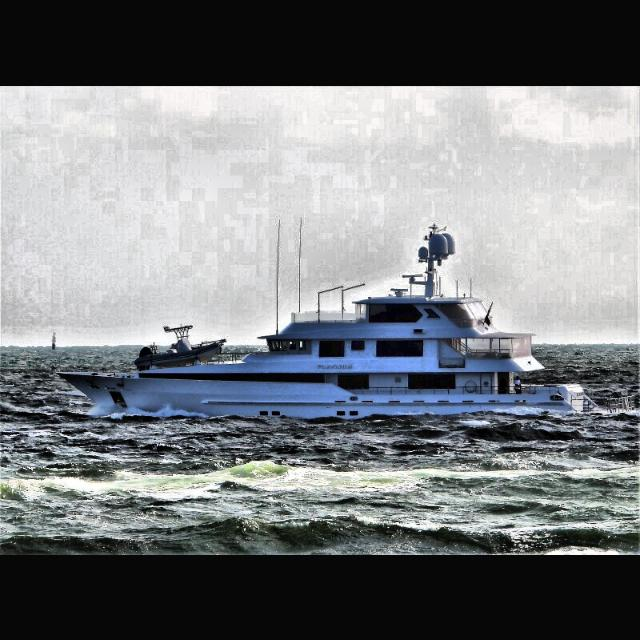yacht: (55, 222, 639, 418)
